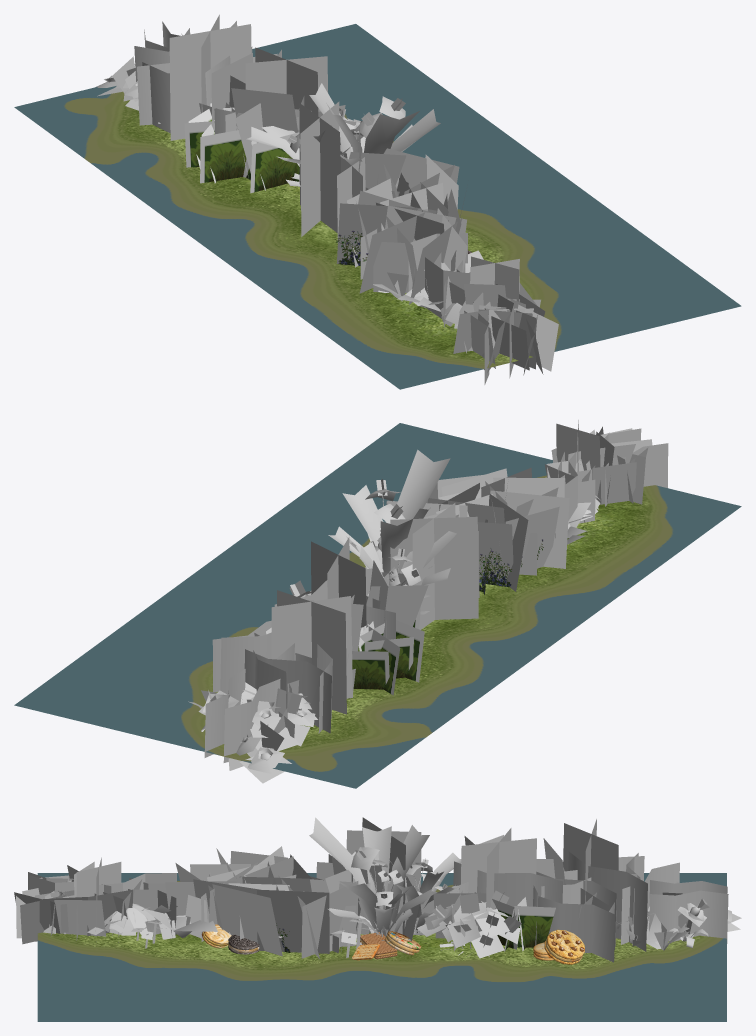
The model's file is Sc08_road_a2.fbx.
3 renders of one model, top to bottom at view 1: azimuth 30°, elevation 25°; view 2: azimuth 150°, elevation 25°; view 3: azimuth 270°, elevation 25°, orthographic. The views are drawn at different scales.
Visible parts, largest first — view 1: rd_a, bush_a2, h04_a2, h02_a2; view 2: rd_a, bush_a2, h04_a2, h02_a2; view 3: rd_a, bush_a2, h04_a2, h02_a2, Crackers_a2.
Part boxes in pixels (x1=…): rd_a: x1=14, y1=24, x2=741, y2=389; bush_a2: x1=134, y1=21, x2=558, y2=384; h04_a2: x1=169, y1=14, x2=540, y2=328; h02_a2: x1=95, y1=28, x2=440, y2=186; rd_a: x1=14, y1=423, x2=741, y2=788; bush_a2: x1=204, y1=426, x2=668, y2=762; h04_a2: x1=188, y1=420, x2=635, y2=725; h02_a2: x1=198, y1=449, x2=456, y2=783; rd_a: x1=37, y1=873, x2=726, y2=1021; bush_a2: x1=14, y1=846, x2=728, y2=962; h04_a2: x1=60, y1=817, x2=689, y2=957; h02_a2: x1=309, y1=817, x2=741, y2=958; Crackers_a2: x1=202, y1=924, x2=584, y2=964.
Size of the model in its own units: 307 by 126 by 634.
